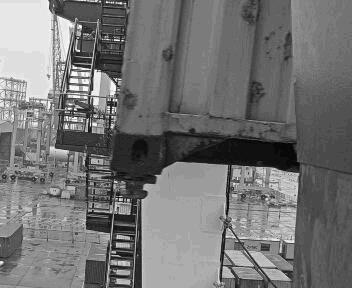twist_lock_1: (141, 174, 192, 208)
